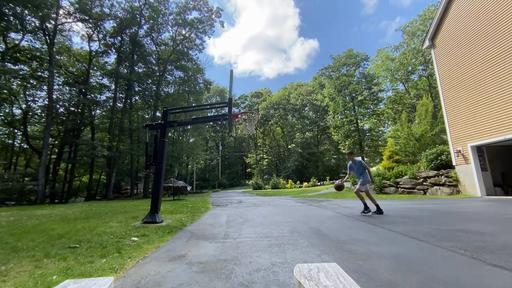ball: (334, 180, 344, 192)
human: (340, 150, 384, 216)
rim: (236, 110, 260, 134)
